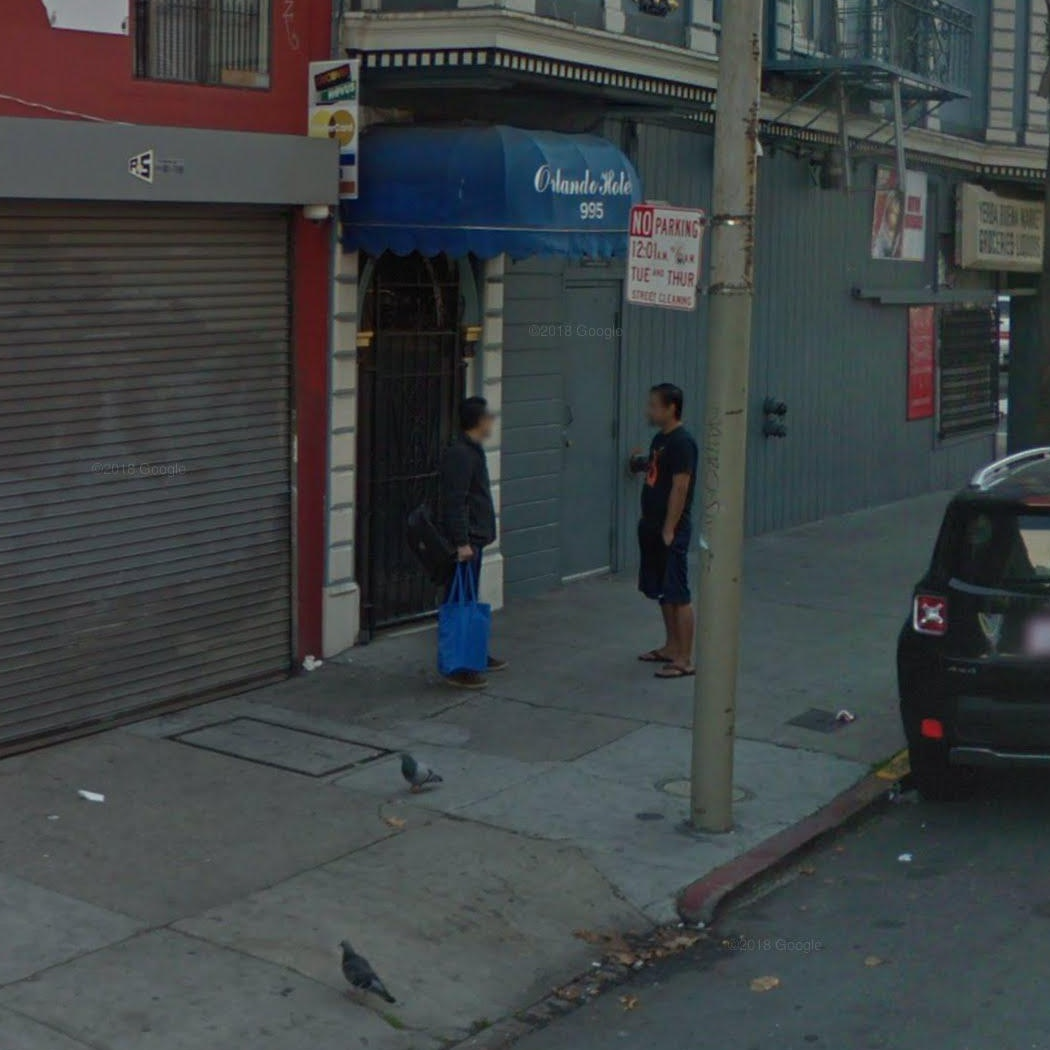No Parking: (623, 203, 705, 312)
